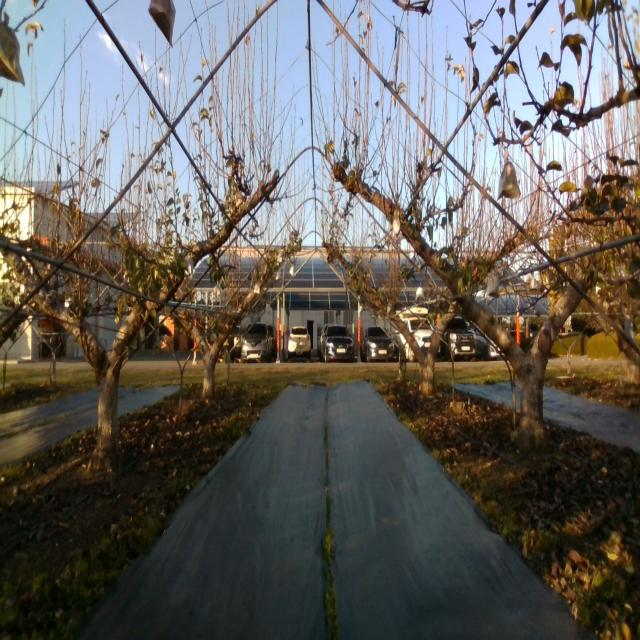pearbags: (0, 21, 25, 86), (148, 0, 175, 47), (498, 162, 521, 200), (487, 274, 500, 299)
